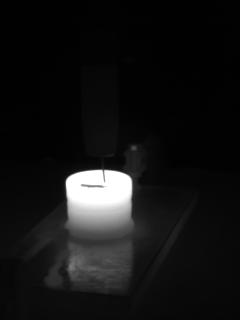tip_wire_left: (86, 152, 106, 185)
tip_wire_right: (103, 152, 117, 185)
